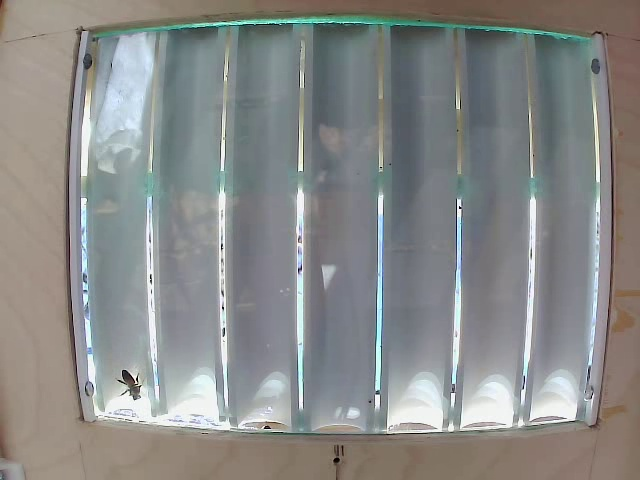bee: (113, 364, 141, 403)
